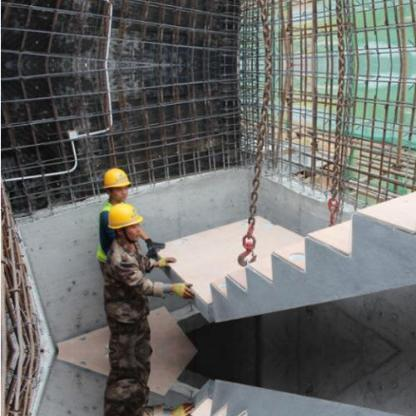helmet: (106, 199, 146, 233), (100, 165, 137, 191)
